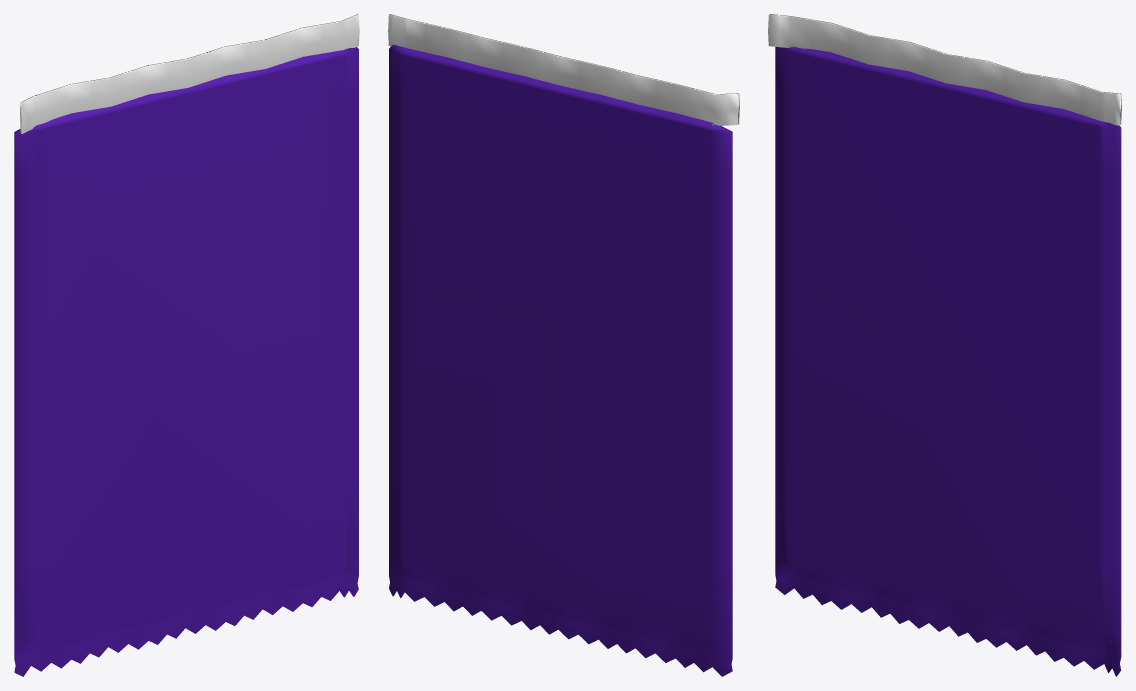
Rendered from full_baked.glb.
The picture shows the model from 3 angles, left to right: view 1: azimuth 30°, elevation 25°; view 2: azimuth 150°, elevation 25°; view 3: azimuth 330°, elevation 25°; orthographic projection.
Parts seen in each view (by area): view 1: pack, tab; view 2: pack, tab; view 3: pack, tab.
Boxes of the visible parts, left/top/right/bottom form: pack: left=14, top=47, right=358, bottom=676; tab: left=20, top=14, right=359, bottom=133; pack: left=389, top=44, right=732, bottom=676; tab: left=388, top=14, right=739, bottom=125; pack: left=775, top=46, right=1121, bottom=676; tab: left=768, top=14, right=1121, bottom=125.
Bounding box in the file's own units: 4.07 × 6.58 × 0.2481.
